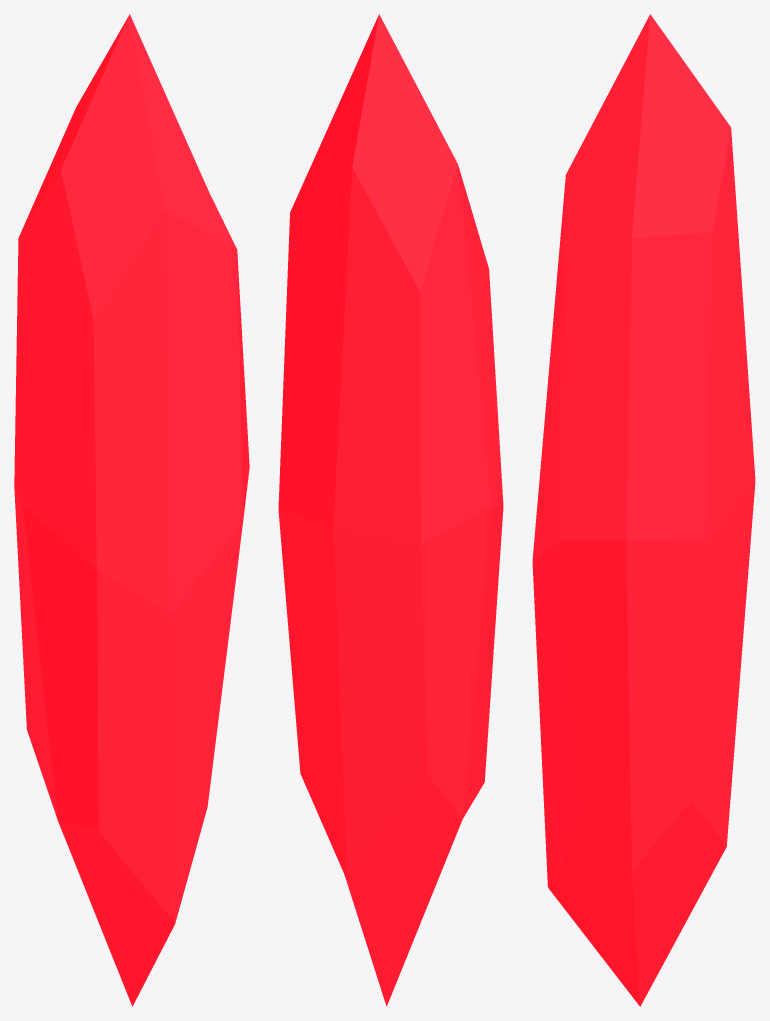
Rendered from crystal_1.glb.
3 renders of one model, left to right at view 1: azimuth 30°, elevation 25°; view 2: azimuth 150°, elevation 25°; view 3: azimuth 270°, elevation 25°, orthographic.
Parts seen in each view (by area): view 1: crystal_1; view 2: crystal_1; view 3: crystal_1.
Boxes of the visible parts, <box> form: crystal_1: <box>14,14,249,1006</box>; crystal_1: <box>278,14,503,1006</box>; crystal_1: <box>532,14,755,1006</box>.
Bounding box in the file's own units: 1.83 × 7.95 × 1.62.
